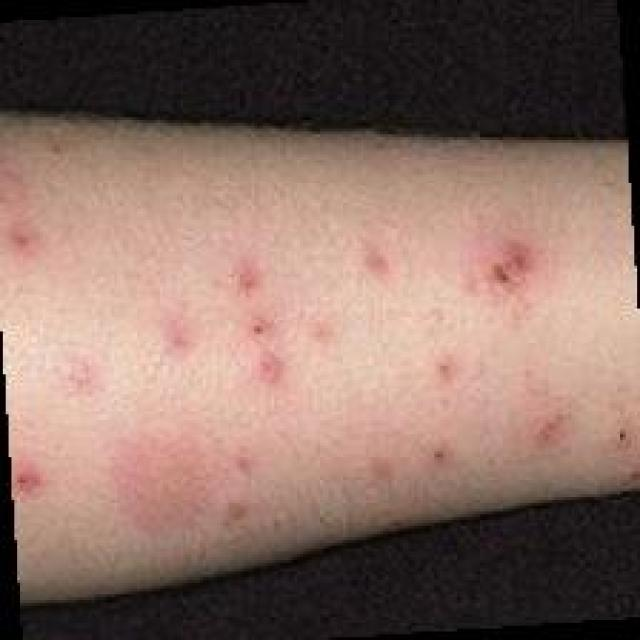others: (5, 158, 629, 522)
